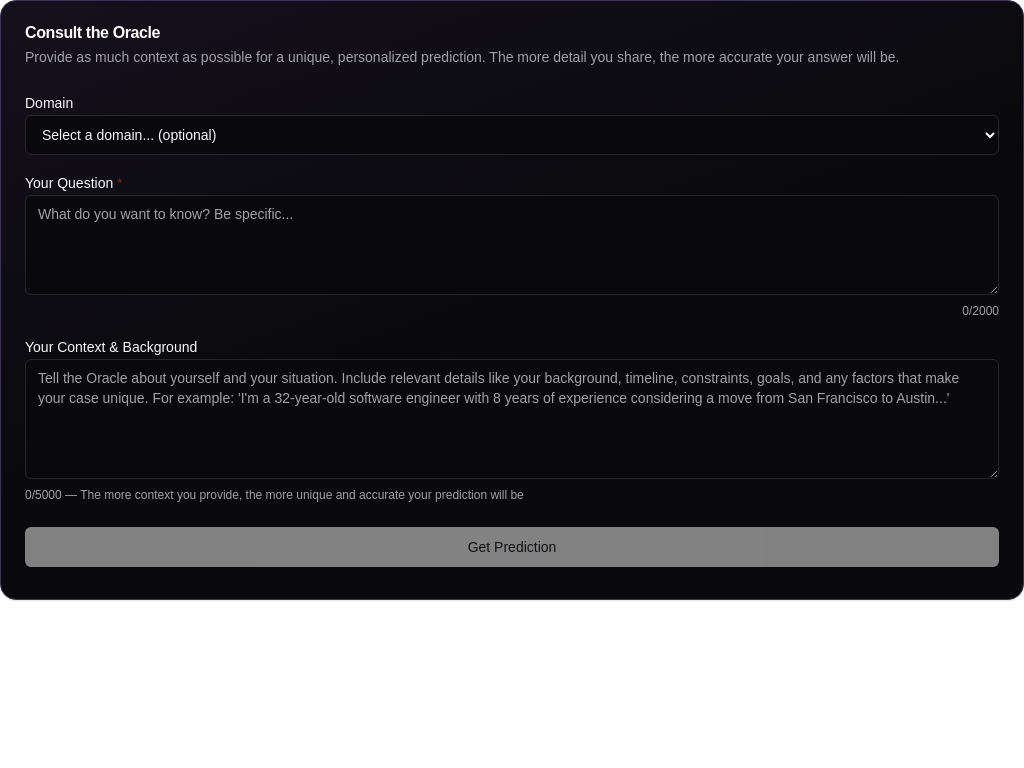
Test: PredictionForm › shows error on API failure
Type "What will the stock market do next quarter?" into the text box labelled "Your Question *".
click(512, 245); type("What will the stock market do next quarter?")  # box [25,195,999,295]
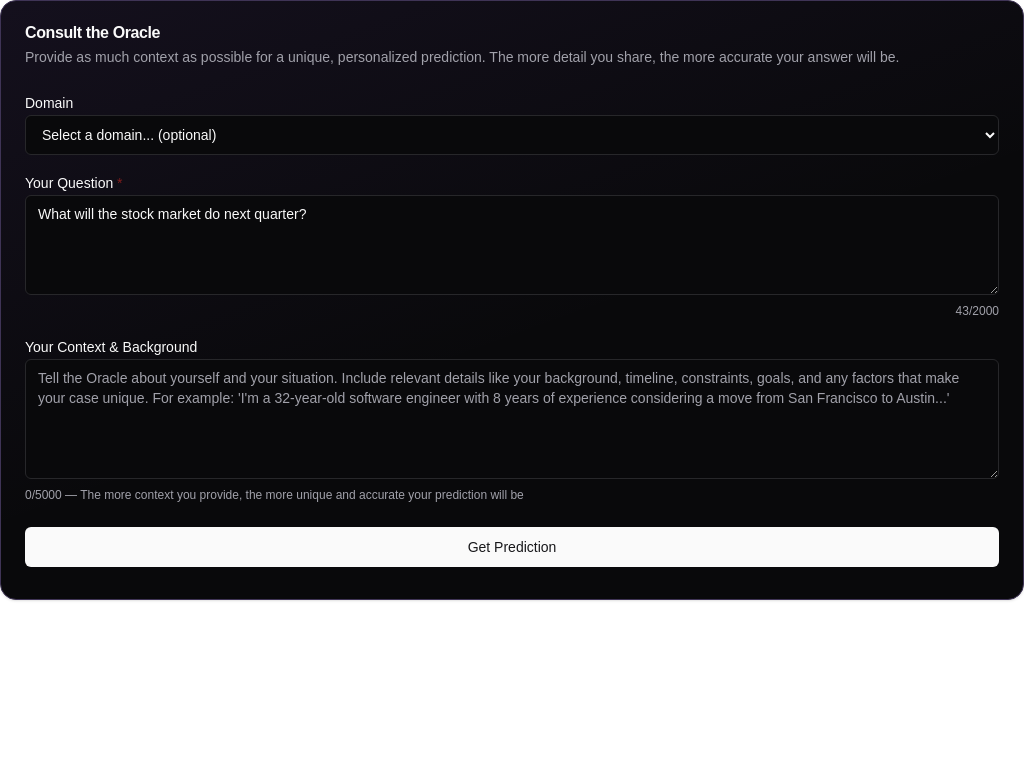
Click the button "Get Prediction".
click(512, 547)  # box [25,527,999,567]
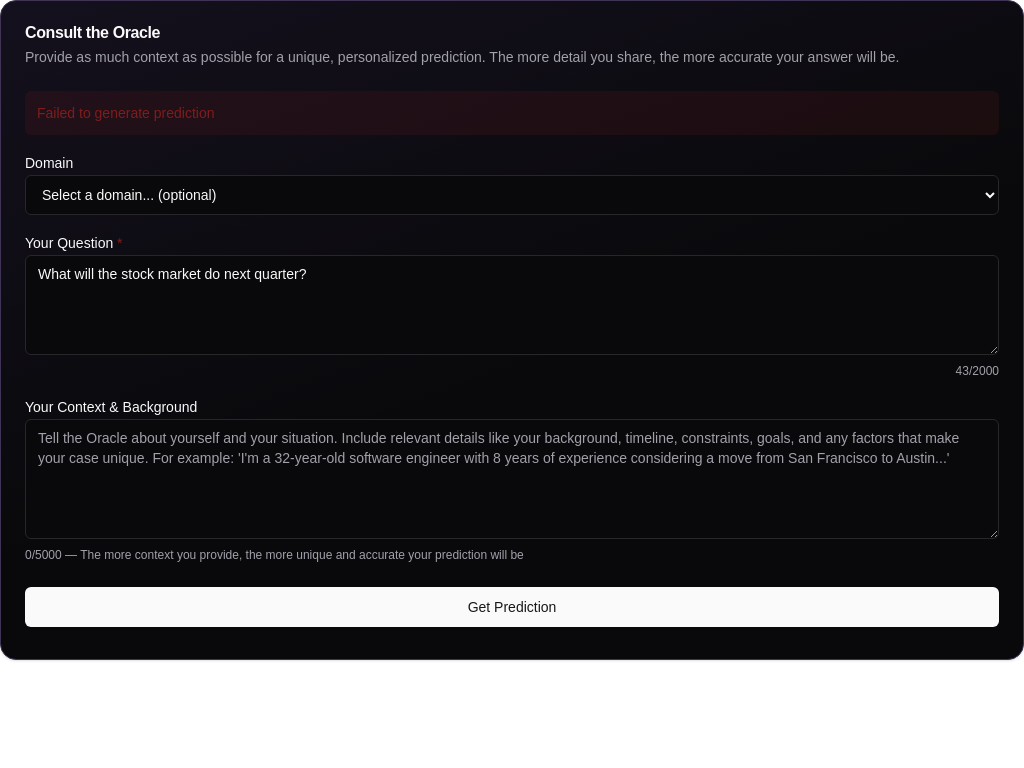
Now the text "Failed to generate prediction" is shown, box [25,91,999,135]
